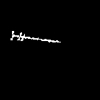treble_crochet: (11, 31, 58, 41)
